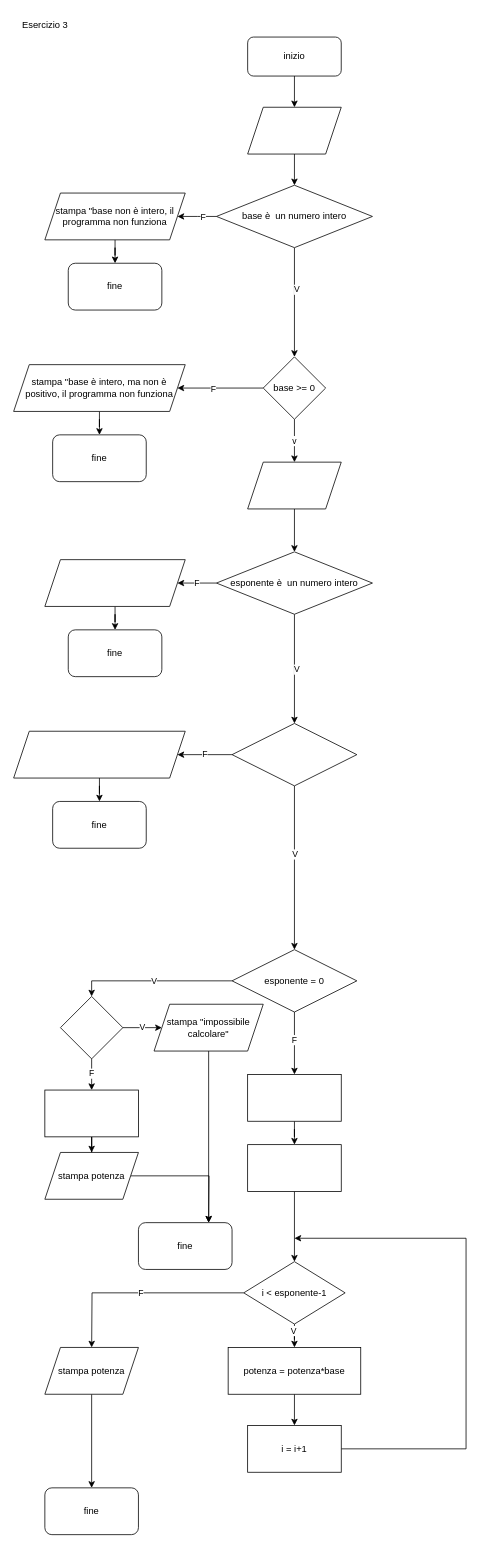
This 486x1548 diagram has some shape labels left out. The centre of each missing label's shape, as x and y in pixels:
base = 0: point 91,1027
esponente >= 0: point 294,754
i = 0: point 294,1097
leggi base: point 294,130
leggi esponente: point 294,485
potenza = 1: point 91,1113
potenza = base: point 294,1167
stampa "esponente non è intero, il programma non funziona: point 114,582
stampa "esponente è intero, ma non è positivo, il programma non funziona: point 99,754
